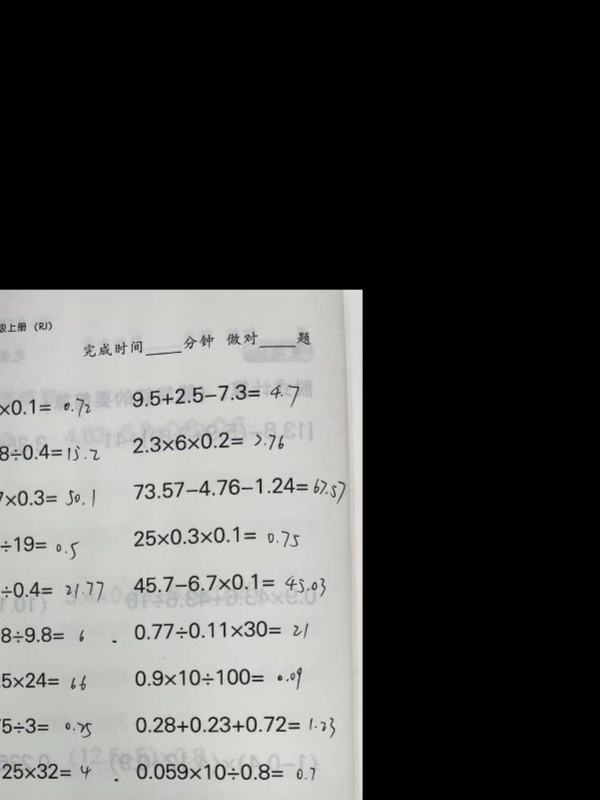equation: (129, 471, 348, 509), (134, 705, 340, 744), (131, 567, 331, 602), (131, 612, 319, 649), (129, 753, 320, 787), (127, 379, 302, 410), (131, 663, 306, 693), (129, 522, 302, 550), (128, 428, 287, 454), (0, 714, 95, 745), (0, 577, 107, 604), (0, 439, 102, 465), (0, 485, 98, 510), (0, 394, 93, 419), (0, 623, 88, 649), (0, 759, 95, 783), (0, 531, 81, 559), (0, 667, 89, 692)
